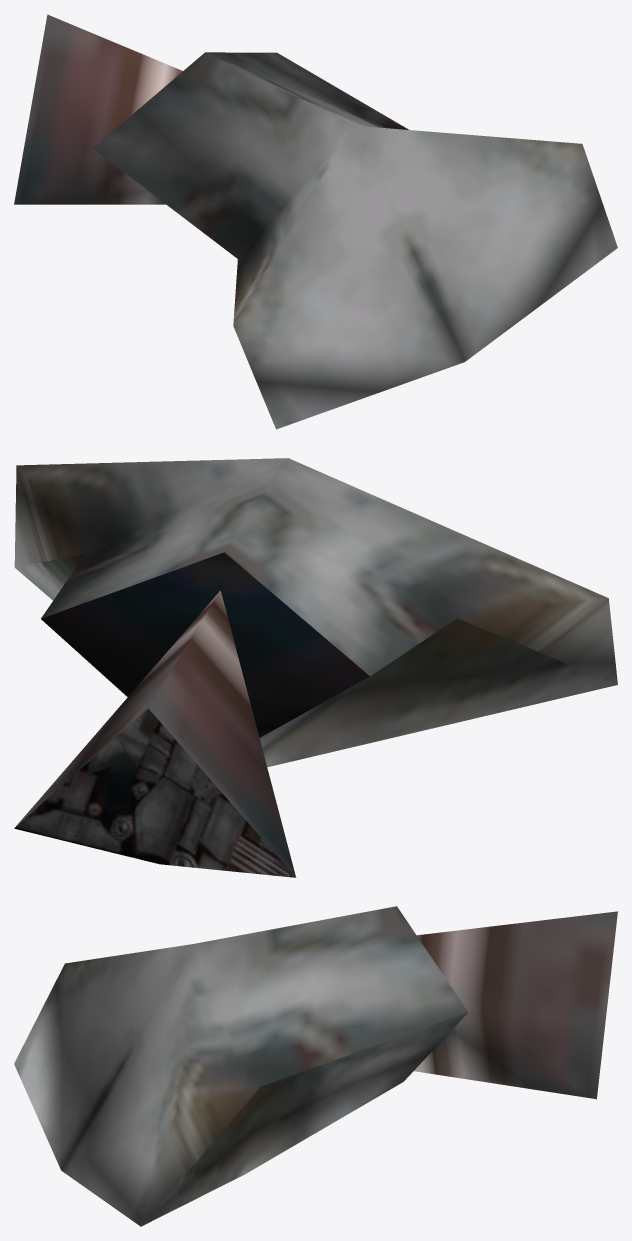
File: poi_repairdroidtorso_l3.fbx
3 renders of one model, top to bottom at view 1: azimuth 30°, elevation 25°; view 2: azimuth 150°, elevation 25°; view 3: azimuth 270°, elevation 25°, orthographic. The views are drawn at different scales.
Parts seen in each view (by area): view 1: mesh_node; view 2: mesh_node; view 3: mesh_node.
Boxes of the visible parts, x1,y1,x2,y2 form: mesh_node: (14,14,617,429); mesh_node: (14,458,617,877); mesh_node: (14,906,617,1226).
Size of the model in its own units: 0.385 by 0.2062 by 0.4676.
